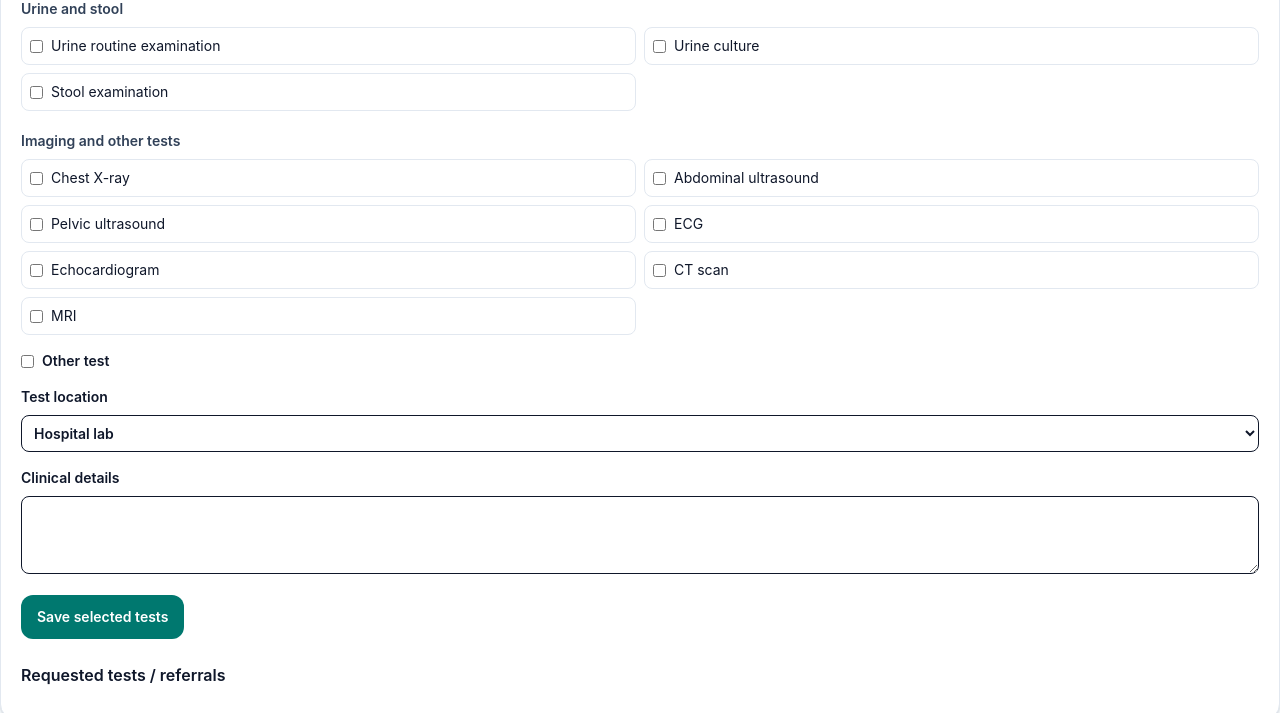
Test: requires a selection and clinical details before saving
The image size is (1280, 713).
(page scrolled)
Click the button "Save selected tests": [103, 617] box left=21, top=595, right=184, bottom=639
(page scrolled)
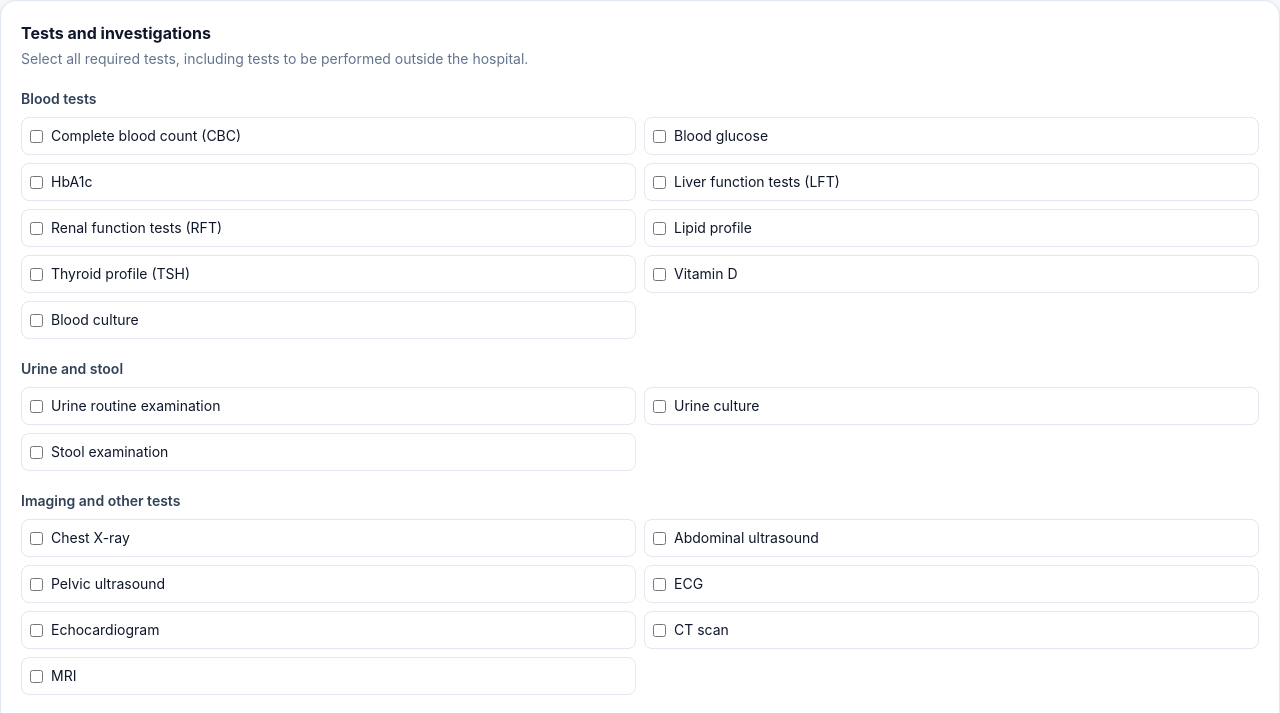
Click the checkbox labelled "Complete blood count (CBC)": [36, 136] box left=30, top=130, right=43, bottom=142
(page scrolled)
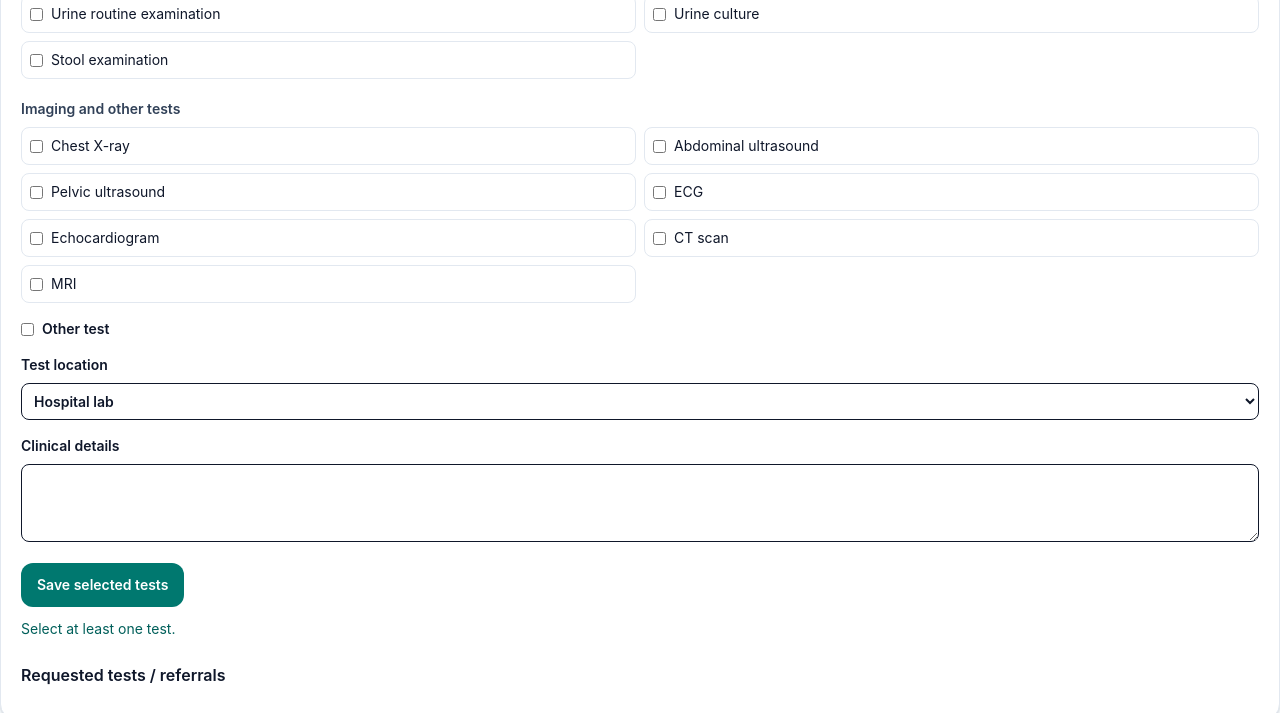
Click the button "Save selected tests": [103, 585] box left=21, top=563, right=184, bottom=607
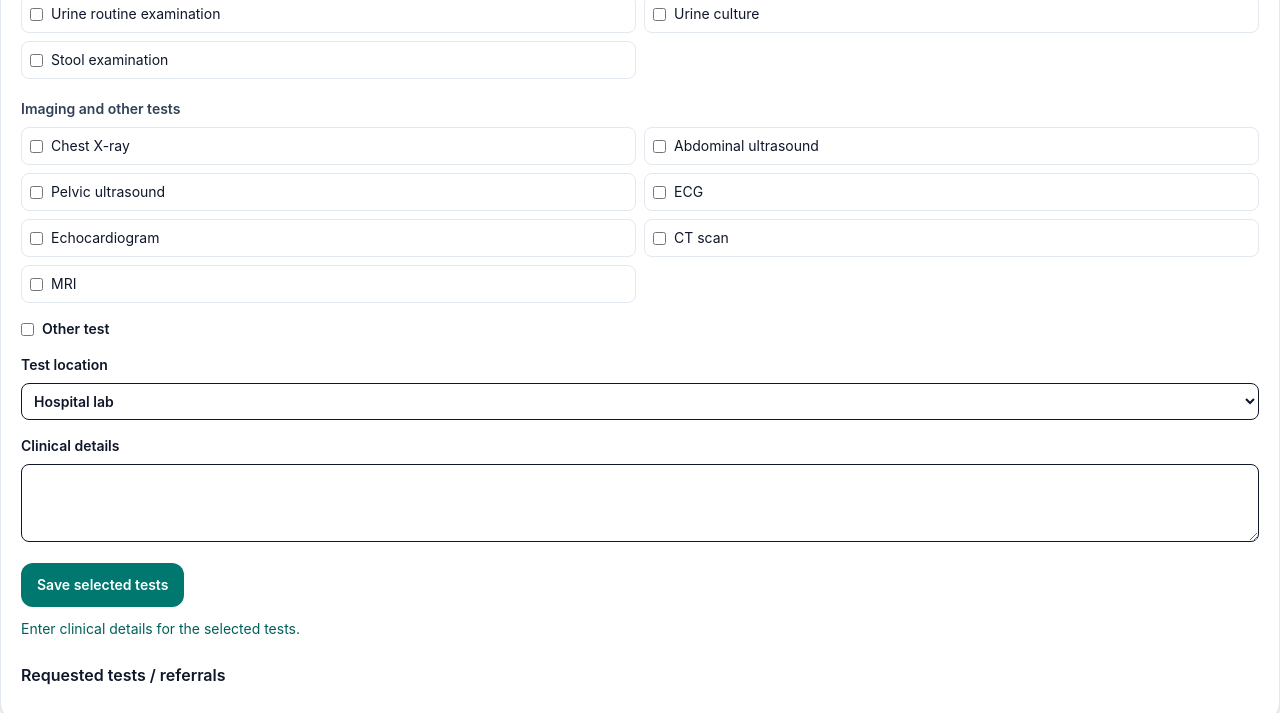
Result: the message shows "Enter clinical details" at left=21, top=620, right=300, bottom=637
